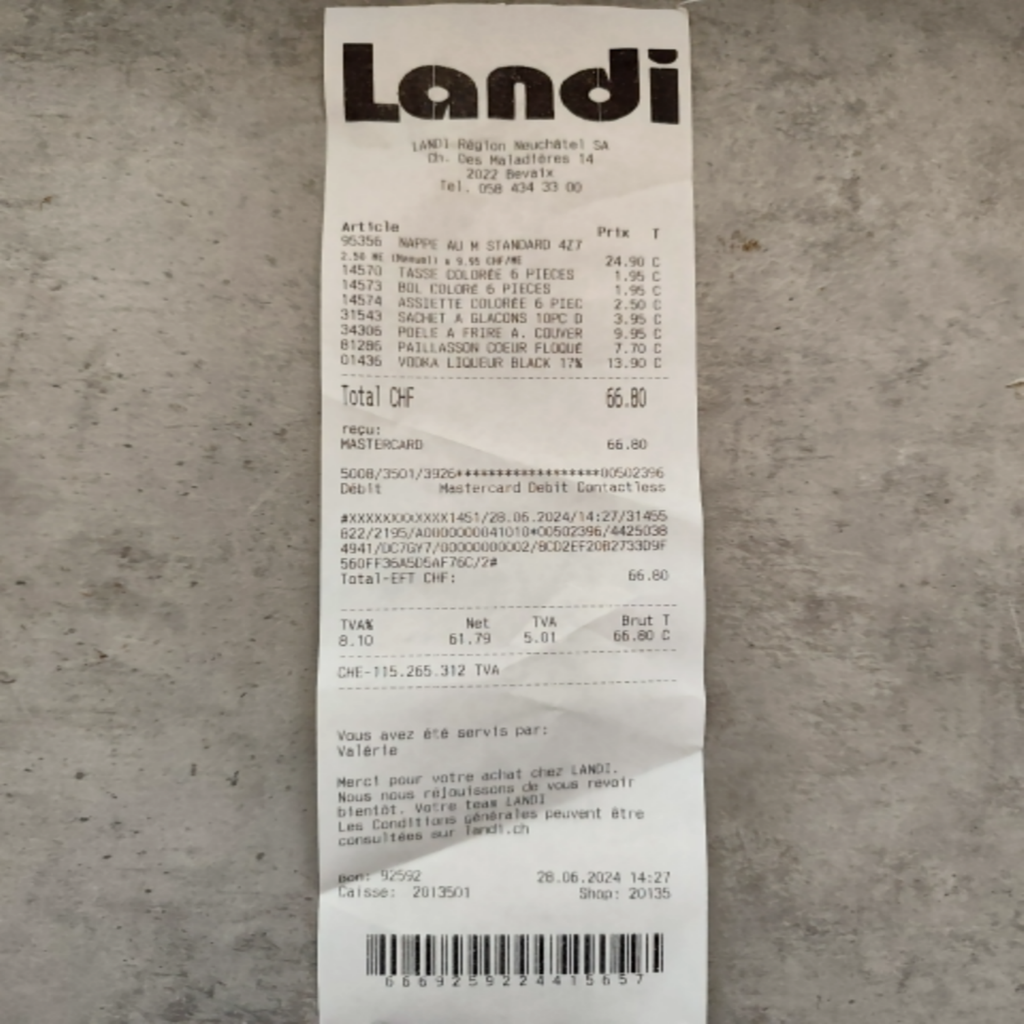recipt: (315, 0, 707, 1016)
